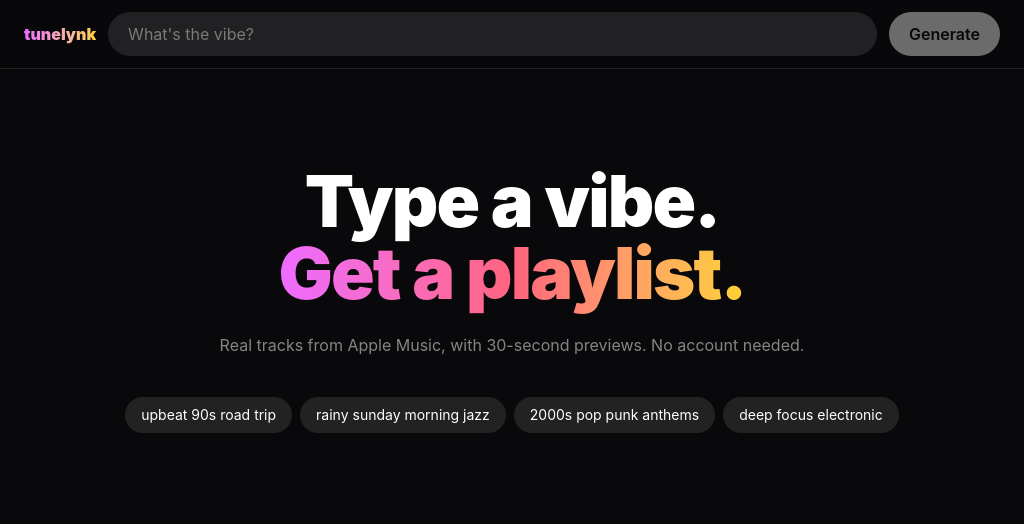
Test: Landing › explains network failures
In the field named "Describe a playlist": (492, 34) [108,12,877,56], type "p"
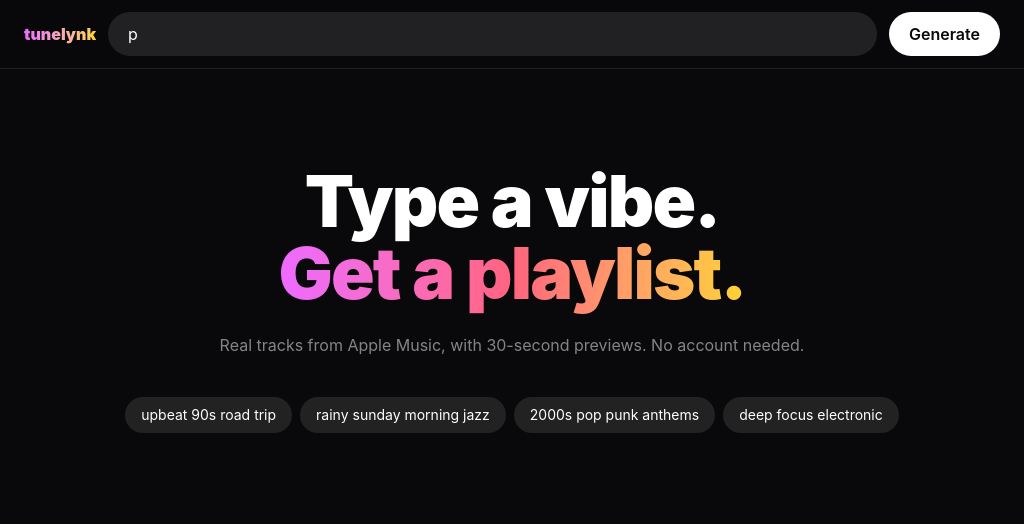
Click the button "Generate": (944, 34) [889,12,1000,56]
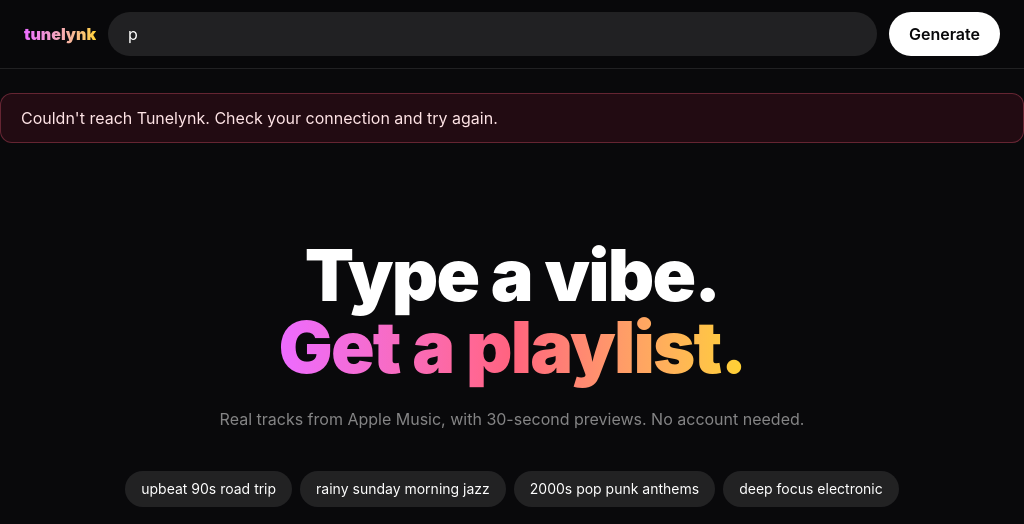
Check: the message shows "Couldn't reach Tunelynk.", box [21,108,498,128]
